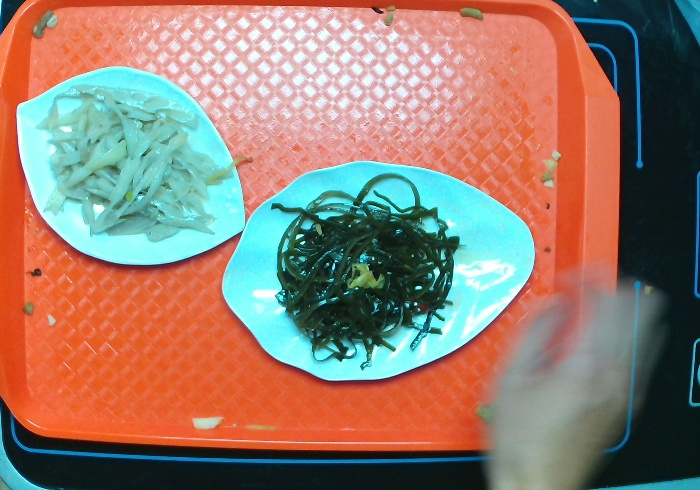RJxy-Bai_Ye_Pan: (216, 157, 540, 385)
RJxy-Da_Du_Pan: (9, 64, 250, 277)
